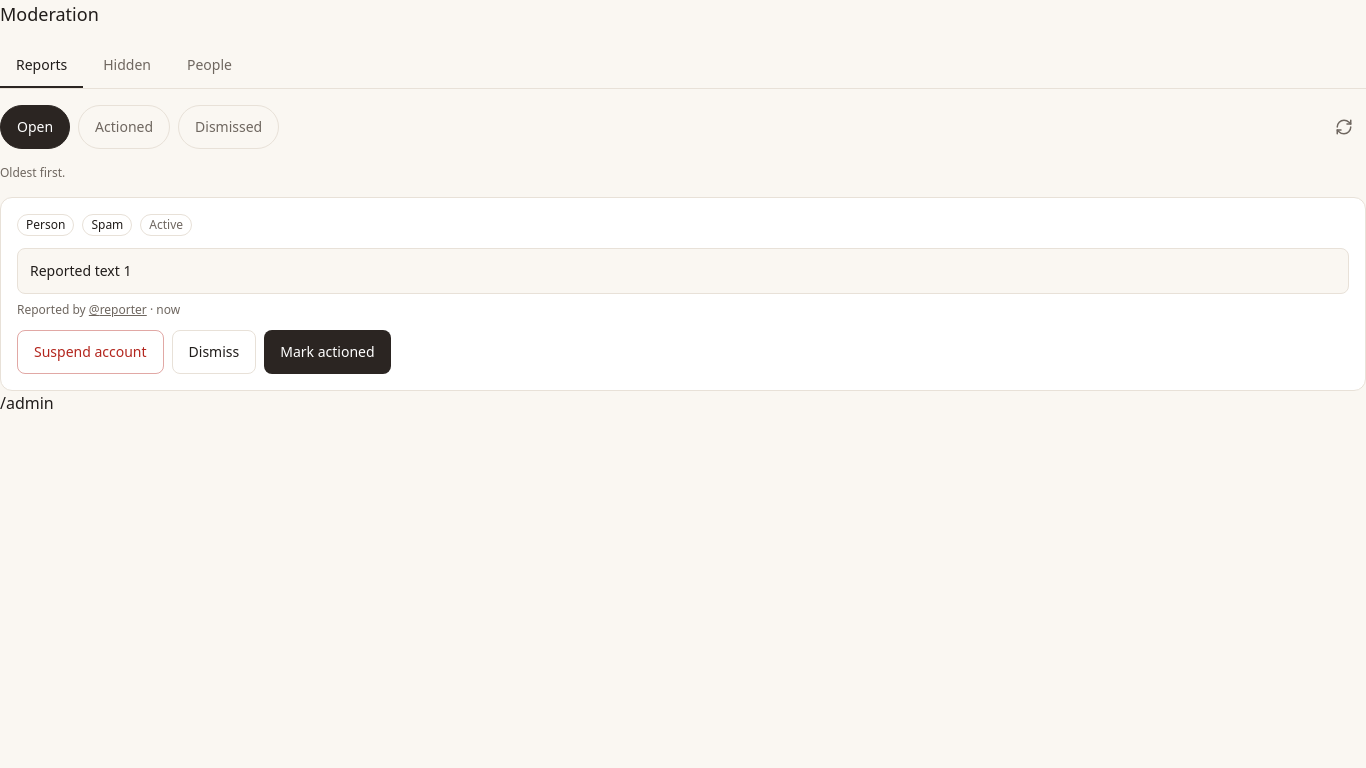
accounts › lets an admin suspend after confirming, then reinstate
Click the button "Suspend account" at {"x": 90, "y": 352}, box [17,330,164,374]
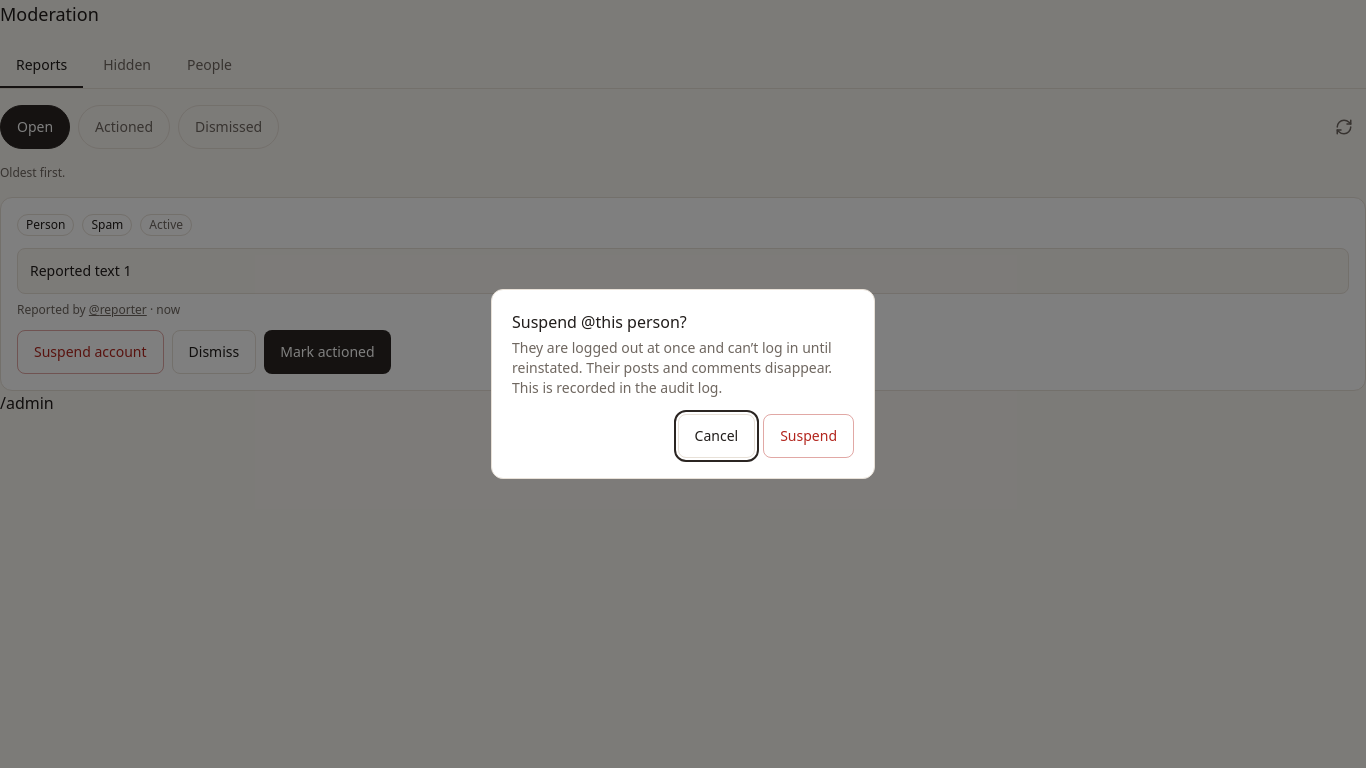
Click the button "Suspend" at {"x": 809, "y": 436}, box [763,414,854,458]
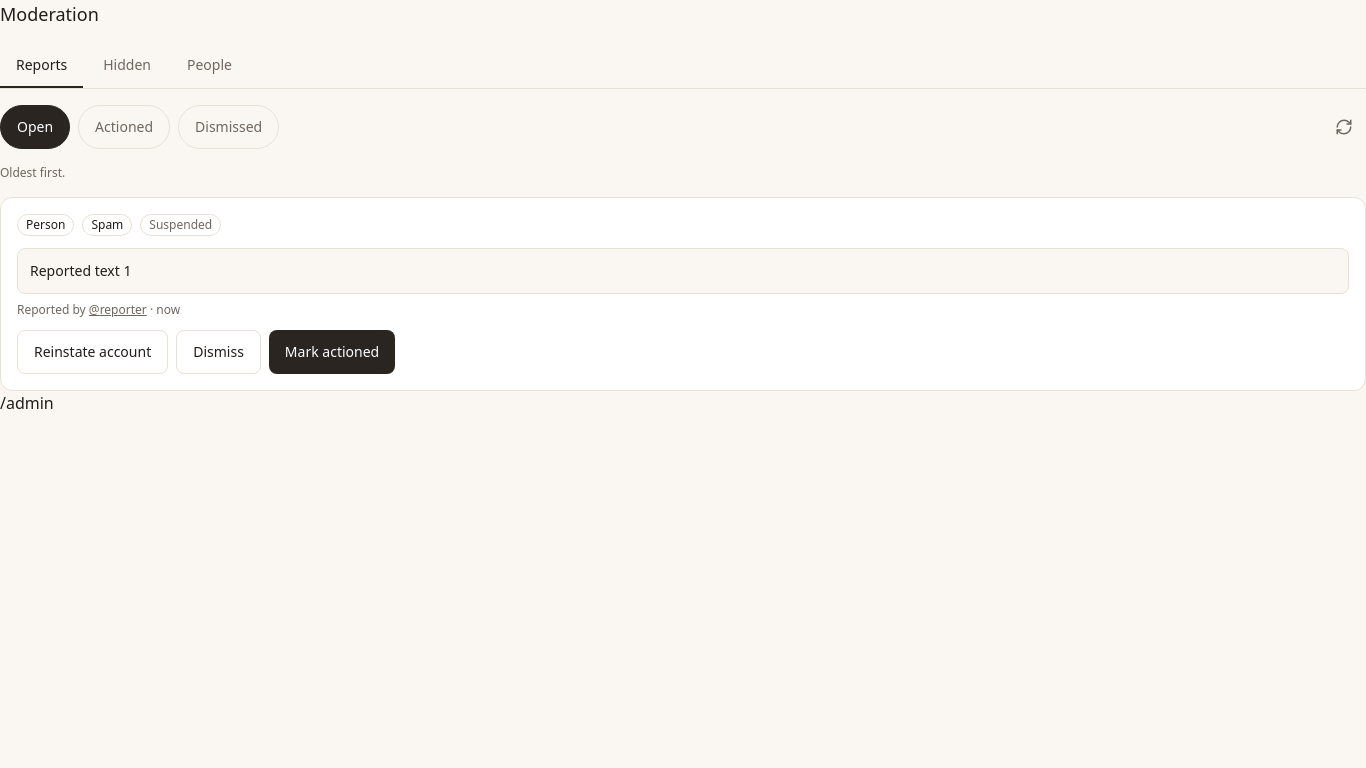
Expected: the button "Reinstate account" is shown
Expected: the dialog is gone
Click the button "Reinstate account" at {"x": 93, "y": 352}, box [17,330,168,374]
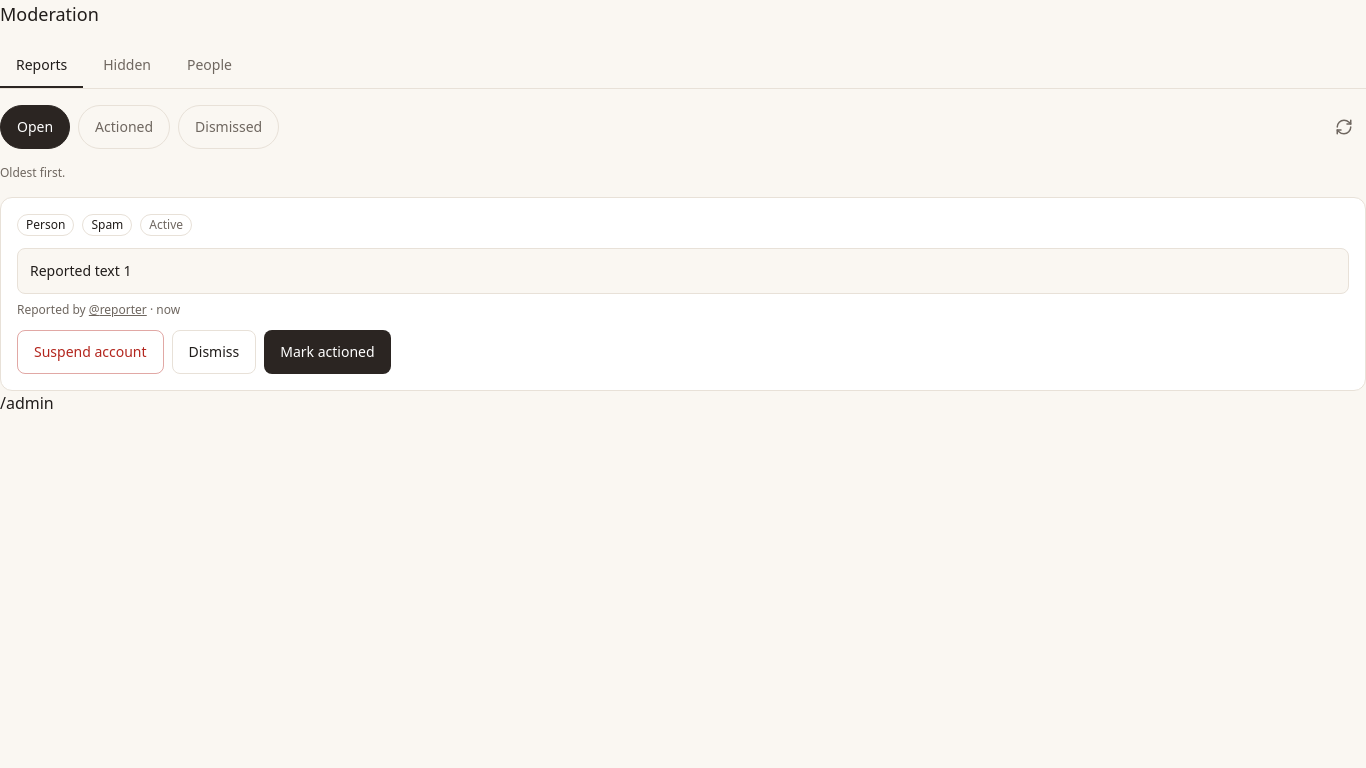
Expected: the button "Suspend account" is shown, [17,330,164,374]
